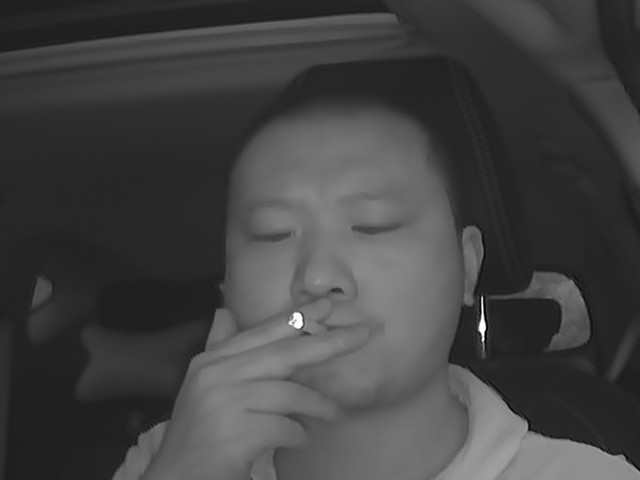hand: (222, 298, 363, 450)
